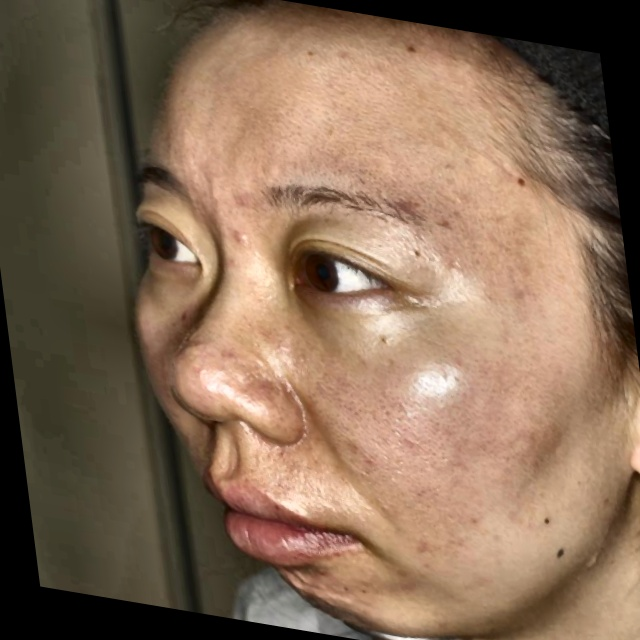comedone: (226, 222, 253, 251), (284, 568, 313, 593)
